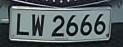2: (50, 12, 66, 40)
6: (66, 13, 80, 38), (80, 13, 93, 37), (93, 13, 106, 36)
L: (15, 12, 30, 38)
W: (30, 13, 46, 38)
